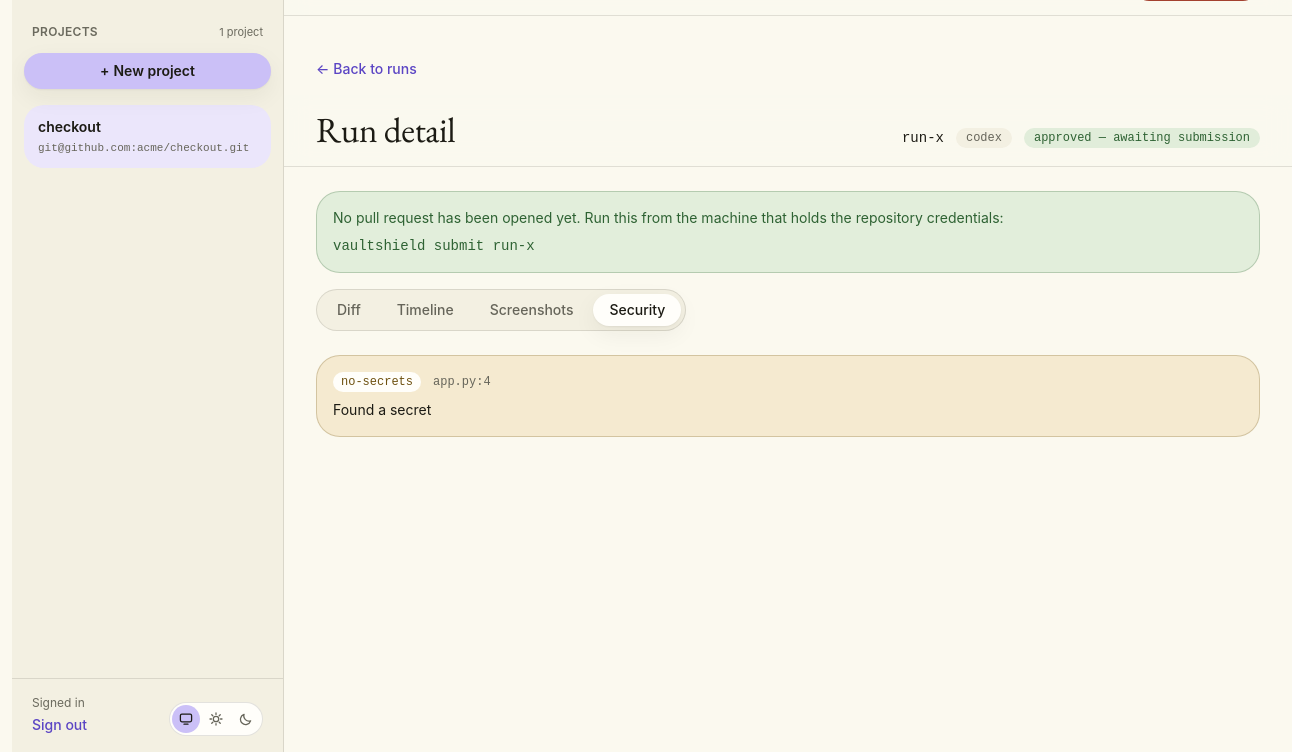
writes the selected tab into the URL when a tab is clicked
Expected: the text "Found a secret" is shown, 333,401 -> 431,418
Click the tab "Diff": point(349, 310) 321,294 -> 377,326
(page scrolled)
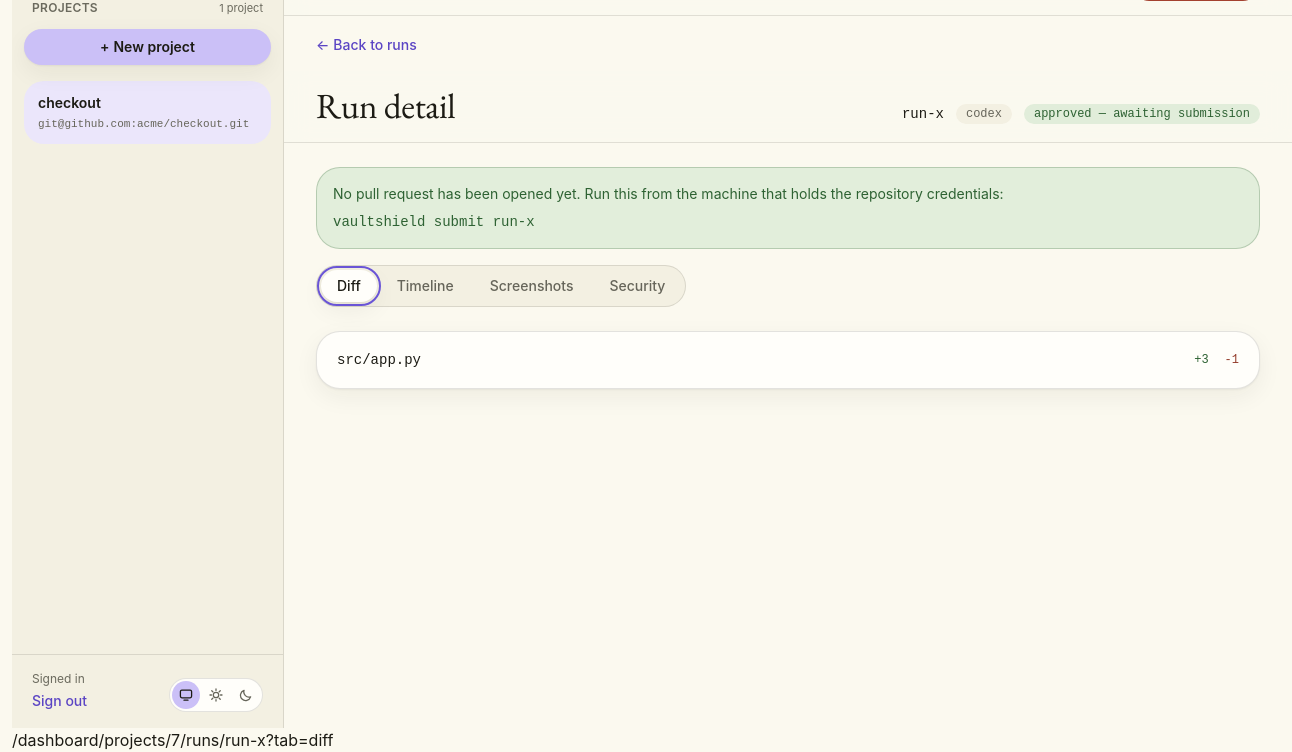
Now the text "src/app.py" is shown, box 337,352 -> 421,368
Now the text with test id "loc" reads "/dashboard/projects/7/runs/run-x?tab=diff", box 12,730 -> 334,750
